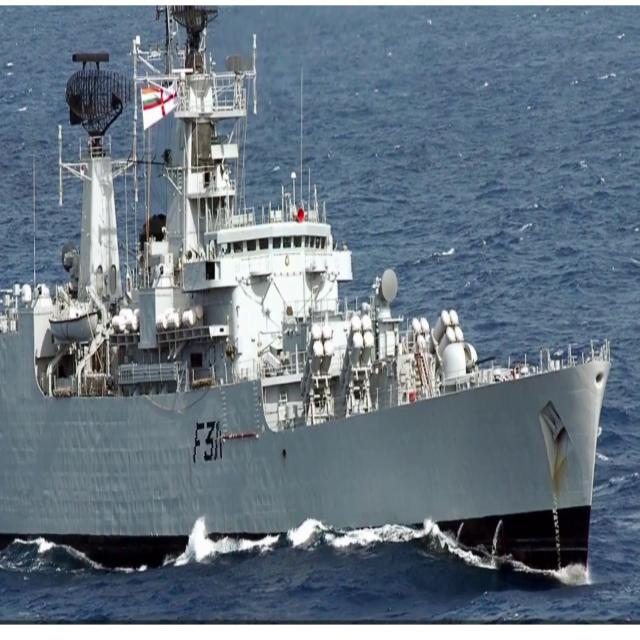OCR: (191, 408, 223, 468)
